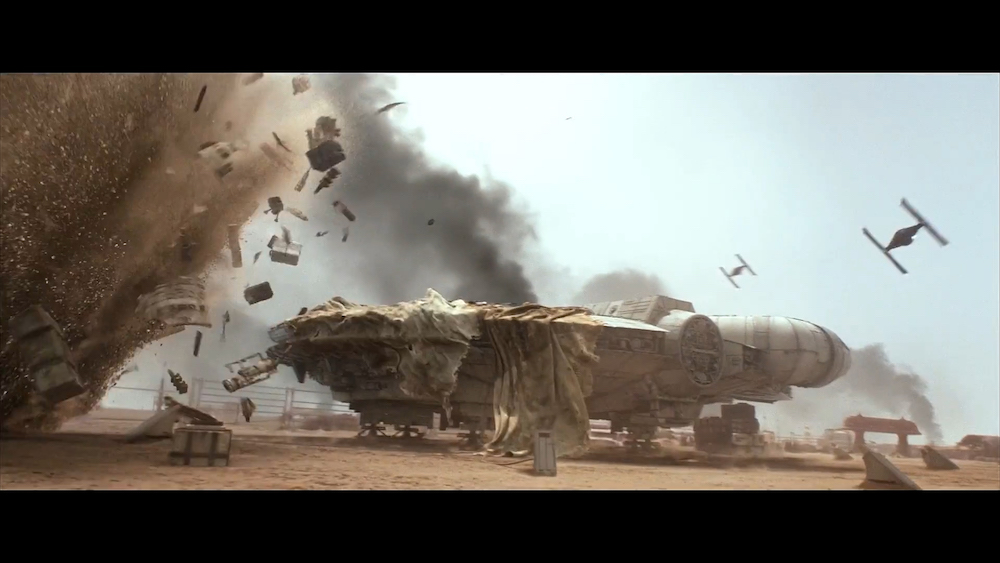Millennium Falcon: (274, 297, 852, 418)
Tie Fighter: (863, 198, 950, 275), (720, 255, 757, 289)
